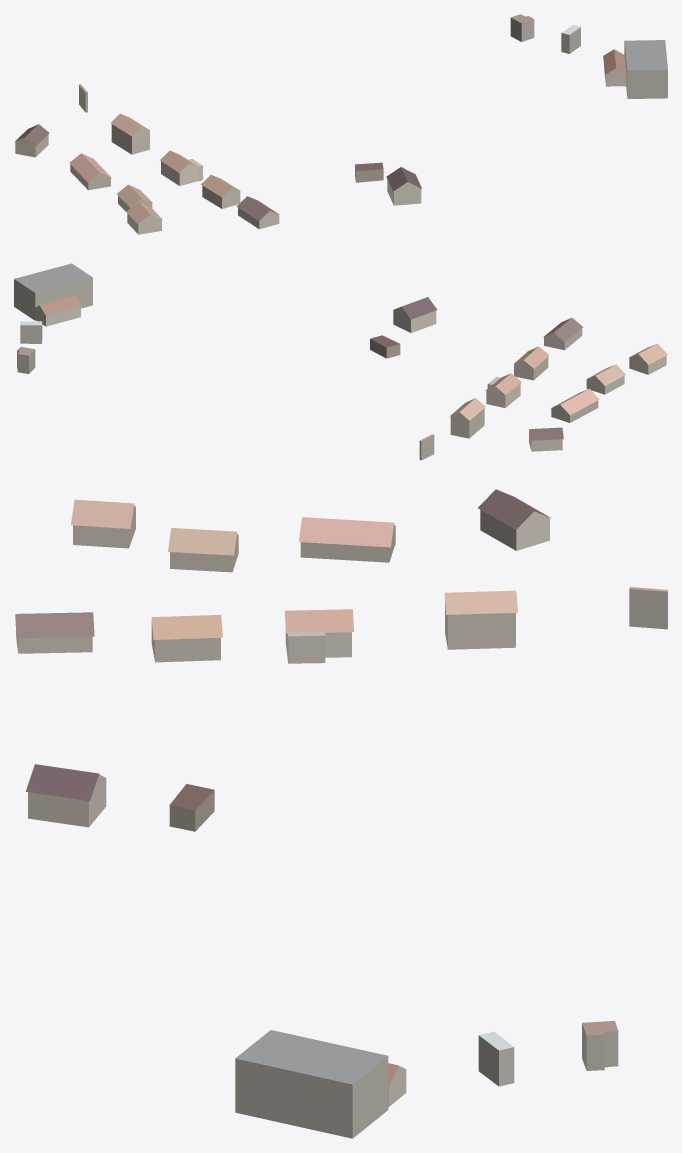
The picture shows the model from 3 angles, top to bottom: view 1: azimuth 30°, elevation 25°; view 2: azimuth 150°, elevation 25°; view 3: azimuth 270°, elevation 25°; orthographic projection. The views are drawn at different scales.
Parts seen in each view (by area): view 1: tuile; view 2: tuile; view 3: tuile.
Part boxes in pixels (x1,y1,x2,y2): tuile: (15,14,667,234); tuile: (14,263,667,460); tuile: (15,489,667,1138).
Size of the model in its own units: 253 by 20.54 by 125.
